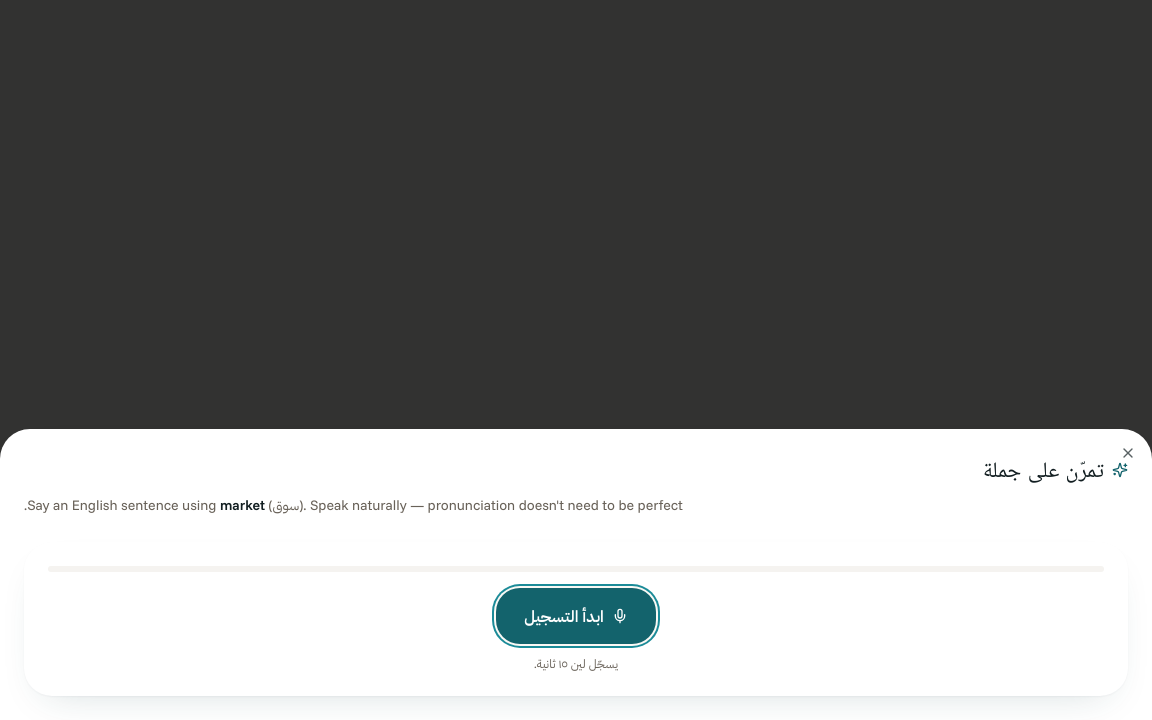
the coaching › names the interference patterns in the learner's own dialect
The width and height of the screenshot is (1152, 720).
Click the button "ابدأ التسجيل" at coordinates (576, 616), box [496, 588, 656, 644]
(page scrolled)
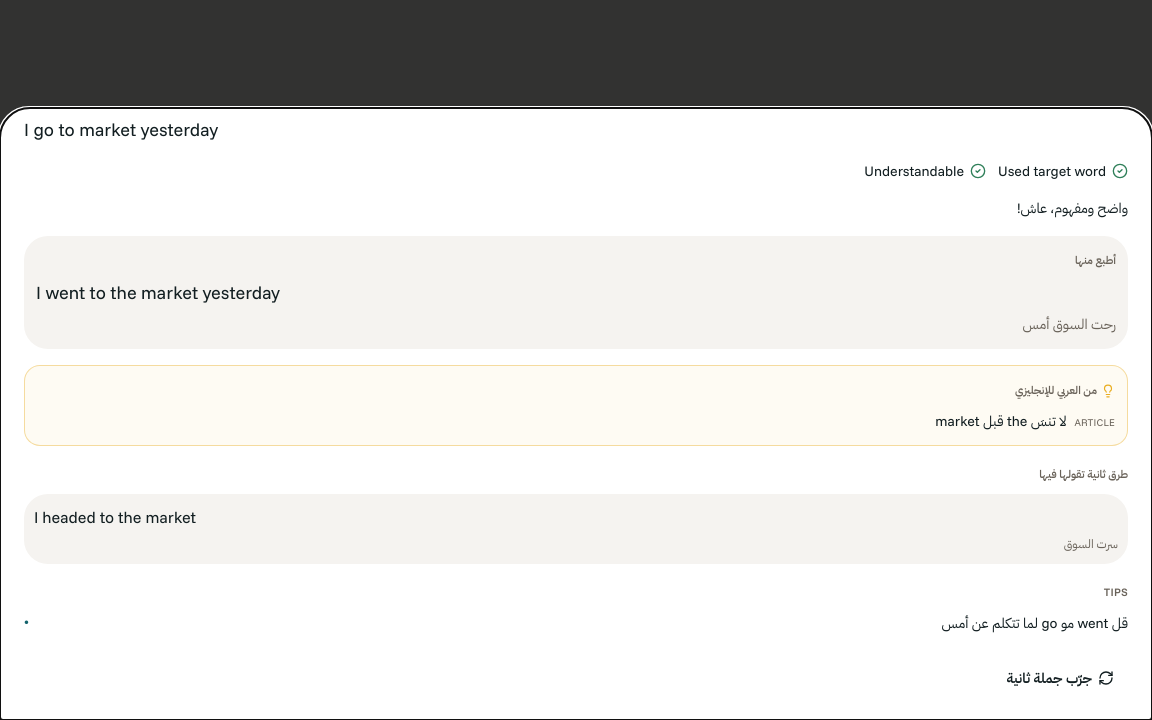
Expected: the text "من العربي للإنجليزي" is shown, [1015, 383, 1115, 398]
Expected: the text "article" is shown, [1074, 413, 1115, 433]
Expected: the text "لا تنسَ the قبل market" is shown, [935, 412, 1066, 430]
